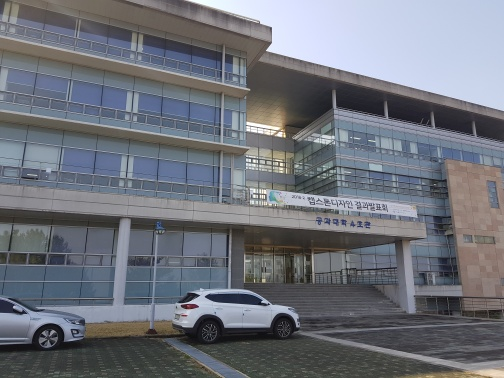Engineering College Building 4: (8, 4, 494, 293), (44, 28, 239, 276), (258, 77, 412, 292), (302, 204, 388, 246)
